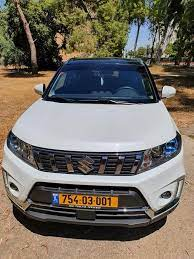licence: (53, 191, 120, 208)
